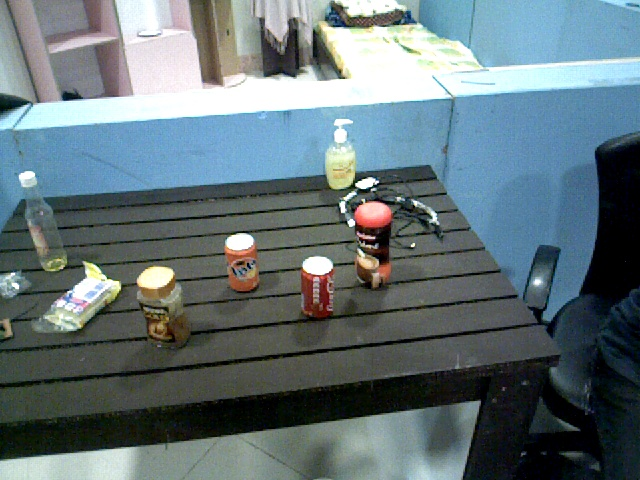coca: (301, 257, 336, 322)
coffee: (138, 265, 192, 351)
cream: (354, 201, 393, 292)
fanta: (226, 232, 263, 292)
